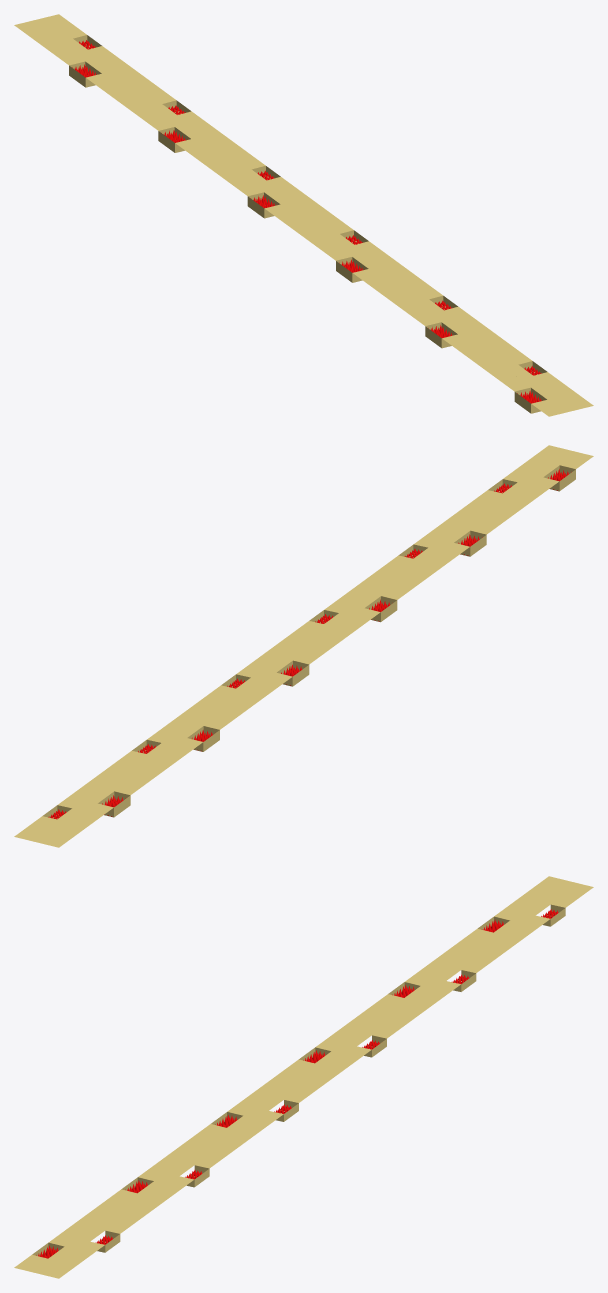
The model's file is _arita.fbx.
3 renders of one model, top to bottom at view 1: azimuth 30°, elevation 25°; view 2: azimuth 150°, elevation 25°; view 3: azimuth 330°, elevation 25°, orthographic.
Parts seen in each view (by area): view 1: pPlane1 (×6); view 2: pPlane1 (×6); view 3: pPlane1 (×6).
Part boxes in pixels (<box>): pPlane1 (×6): <box>14,14,593,416</box>; pPlane1 (×6): <box>14,445,593,847</box>; pPlane1 (×6): <box>14,876,593,1278</box>.
Bounding box in the file's own units: 15.05 × 3.25 × 310.
